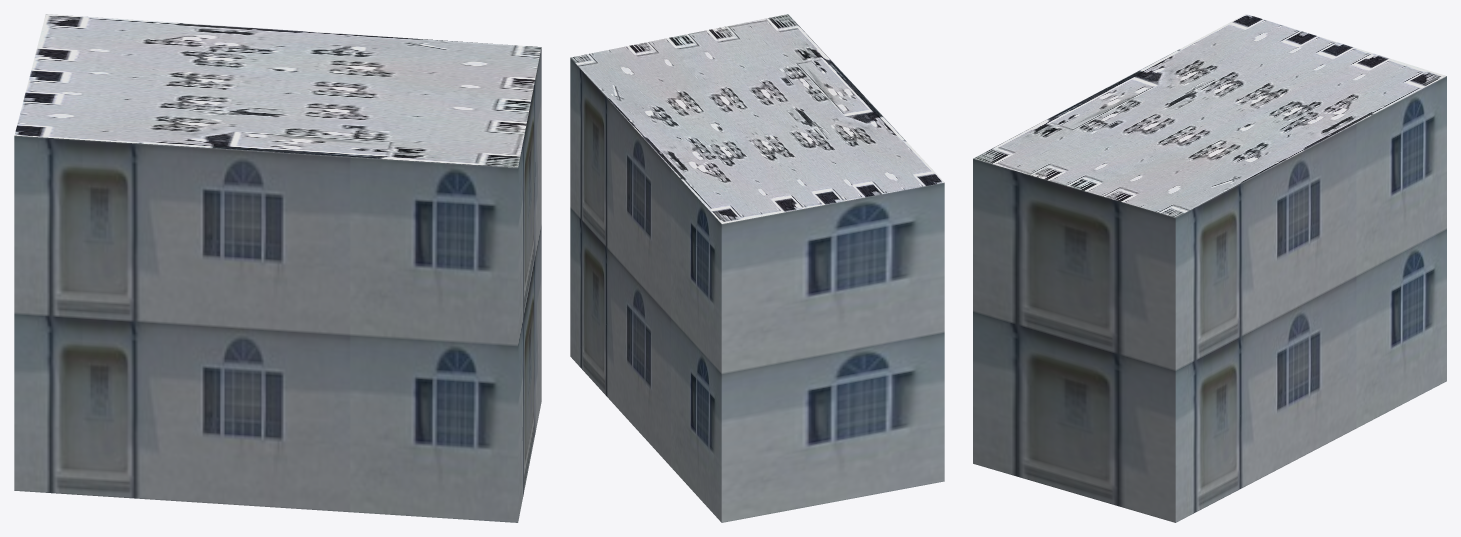
The model's file is ResTex__181.fbx.
3 renders of one model, left to right at view 1: azimuth 30°, elevation 25°; view 2: azimuth 150°, elevation 25°; view 3: azimuth 270°, elevation 25°, orthographic. The views are drawn at different scales.
Parts seen in each view (by area): view 1: CityEngineMaterial_17_m, CityEngineMaterial_m; view 2: CityEngineMaterial_17_m, CityEngineMaterial_m; view 3: CityEngineMaterial_17_m, CityEngineMaterial_m.
Boxes of the visible parts, x1,y1,x2,y2 form: CityEngineMaterial_17_m: [14, 47, 541, 522]; CityEngineMaterial_m: [14, 14, 541, 167]; CityEngineMaterial_17_m: [570, 58, 944, 522]; CityEngineMaterial_m: [570, 14, 944, 223]; CityEngineMaterial_17_m: [973, 76, 1446, 522]; CityEngineMaterial_m: [973, 14, 1446, 217].
Bounding box in the file's own units: 8.59 × 6 × 8.44.
Materials: 2 (2 with a texture image).
